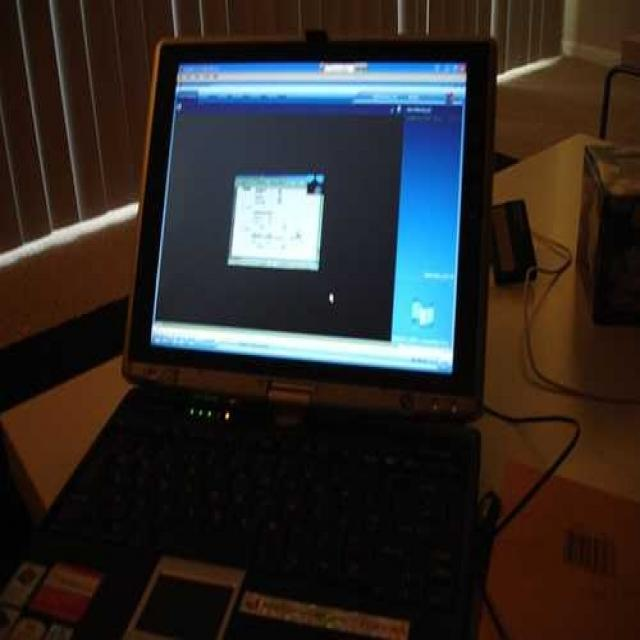laptop: (64, 44, 480, 640)
